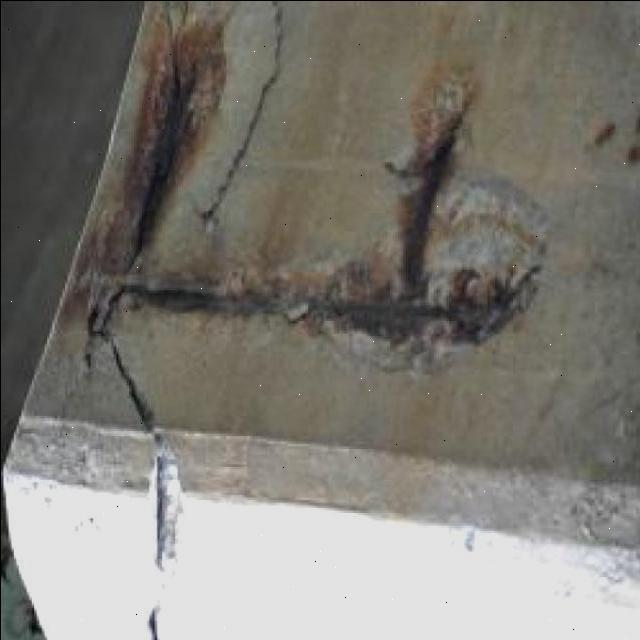crack: (80, 396, 222, 640), (93, 323, 179, 640), (84, 298, 162, 434)
dampens: (275, 81, 598, 375), (59, 86, 329, 381), (122, 12, 271, 397)
